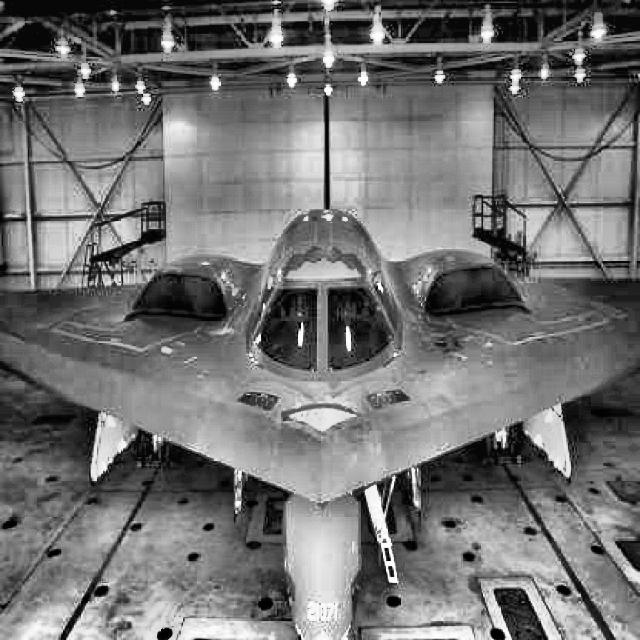B2: (1, 207, 639, 638)
